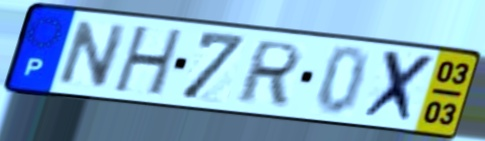0: (315, 45, 373, 118)
7: (182, 28, 249, 103)
H: (109, 24, 188, 100)
N: (53, 18, 132, 90)
R: (232, 38, 307, 107)
X: (356, 47, 440, 128)
